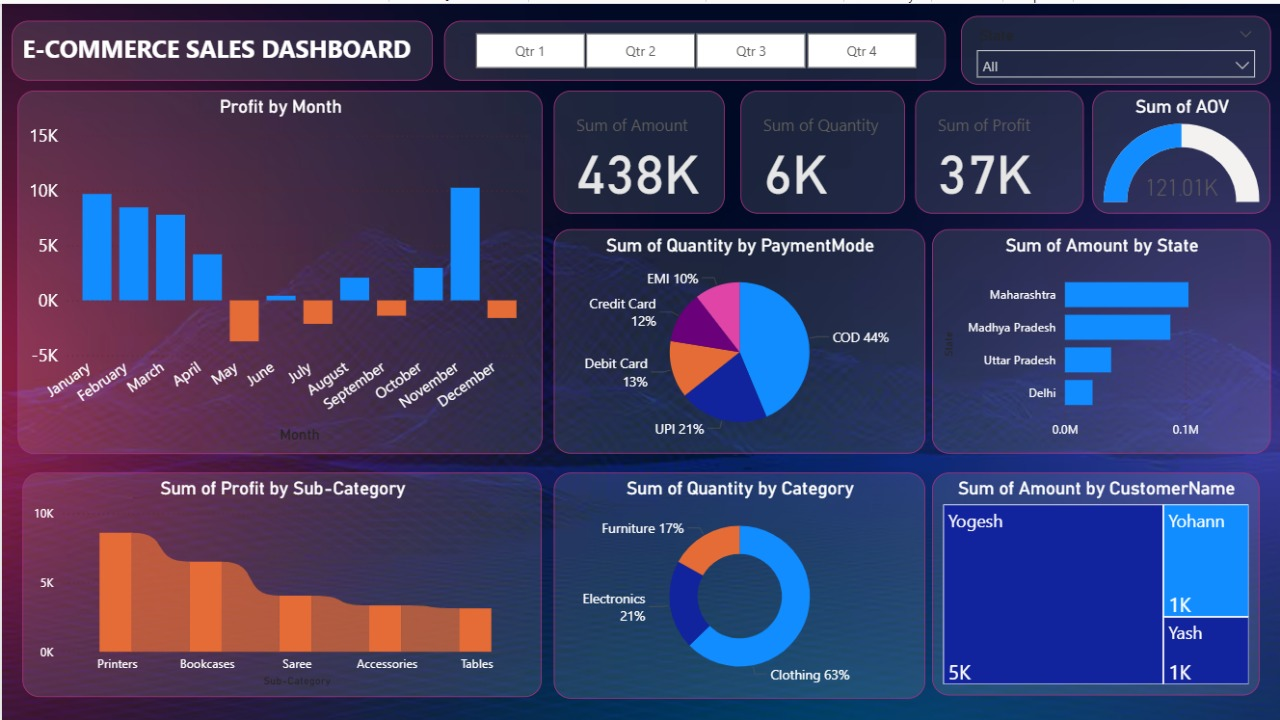

The page's visual inventory and layout, read from the dashboard file:
{"tool":"powerbi","page":{"name":"Page 1","canvas":[1280,720],"ordinal":0},"visuals":[{"type":"textbox","box":[9.6,16.5,421.3,60.4],"z":0},{"type":"columnChart","title":"Profit by Month","fields":{"Category":["Orders.Order Date.Variation.Date Hierarchy.Month"],"Y":["Sum(Details.Profit)"]},"box":[15.1,86.4,525.6,363.6],"z":1000},{"type":"ribbonChart","fields":{"Category":["Details.Sub-Category"],"Y":["Sum(Details.Profit)"]},"box":[20.6,469.3,520.1,225],"z":2000},{"type":"donutChart","fields":{"Category":["Details.Category"],"Y":["Sum(Details.Quantity)"]},"box":[553,469.3,371.9,226.4],"z":3000},{"type":"pieChart","fields":{"Y":["Sum(Details.Quantity)"],"Category":["Details.PaymentMode"]},"box":[553,225,371.9,225],"z":4000},{"type":"cardVisual","fields":{"Data":["Sum(Details.Amount)"]},"box":[553,86.4,171.5,123.5],"z":5000},{"type":"cardVisual","fields":{"Data":["Sum(Details.Quantity)"]},"box":[739.6,86.4,164.7,123.5],"z":6000},{"type":"cardVisual","fields":{"Data":["Sum(Details.Profit)"]},"box":[913.9,86.4,168.8,123.5],"z":7000},{"type":"gauge","fields":{"Y":["Sum(Details.AOV)"]},"box":[1092.3,86.4,178.4,123.5],"z":8000},{"type":"barChart","fields":{"Category":["Orders.State"],"Y":["Sum(Details.Amount)"]},"box":[931.7,225,338.9,225],"z":9000},{"type":"treemap","fields":{"Group":["Orders.CustomerName"],"Values":["Sum(Details.Amount)"]},"box":[931.7,469.3,328,223],"z":10000},{"type":"slicer","fields":{"Values":["Orders.Order Date.Variation.Date Hierarchy.Quarter"]},"box":[443.2,16.5,502.2,60.4],"z":11000},{"type":"slicer","fields":{"Values":["Orders.State"]},"box":[960.6,12.3,310.1,68.6],"z":12000}]}

Visuals, with their boxes in screenshot pixels (x1, y1, x2, y2), scaled from the page's 1280x720 canvas onto the 1280x720 screenshot:
textbox: crop(10, 16, 431, 77)
"Profit by Month" columnChart: crop(15, 86, 541, 450)
ribbonChart - Details.Sub-Category x Sum(Details.Profit): crop(21, 469, 541, 694)
donutChart - Details.Category x Sum(Details.Quantity): crop(553, 469, 925, 696)
pieChart - Sum(Details.Quantity) x Details.PaymentMode: crop(553, 225, 925, 450)
cardVisual - Sum(Details.Amount): crop(553, 86, 724, 210)
cardVisual - Sum(Details.Quantity): crop(740, 86, 904, 210)
cardVisual - Sum(Details.Profit): crop(914, 86, 1083, 210)
gauge - Sum(Details.AOV): crop(1092, 86, 1271, 210)
barChart - Orders.State x Sum(Details.Amount): crop(932, 225, 1271, 450)
treemap - Orders.CustomerName x Sum(Details.Amount): crop(932, 469, 1260, 692)
slicer - Orders.Order Date.Variation.Date Hierarchy.Quarter: crop(443, 16, 945, 77)
slicer - Orders.State: crop(961, 12, 1271, 81)
